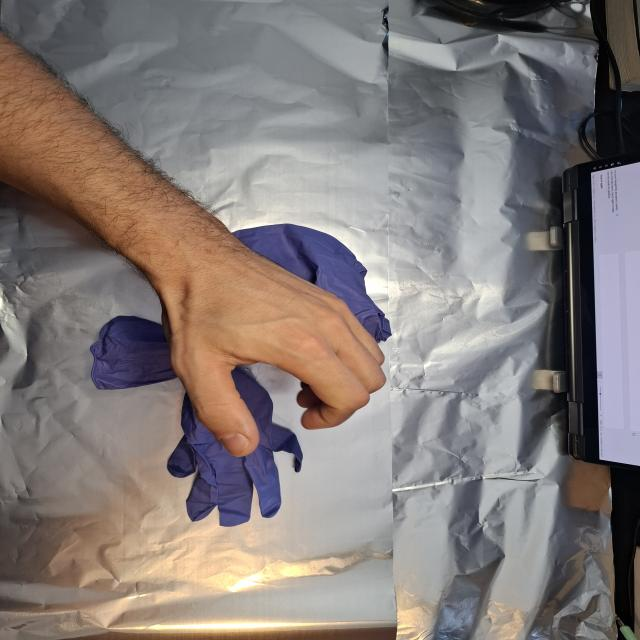glove_off: (153, 253, 389, 459)
